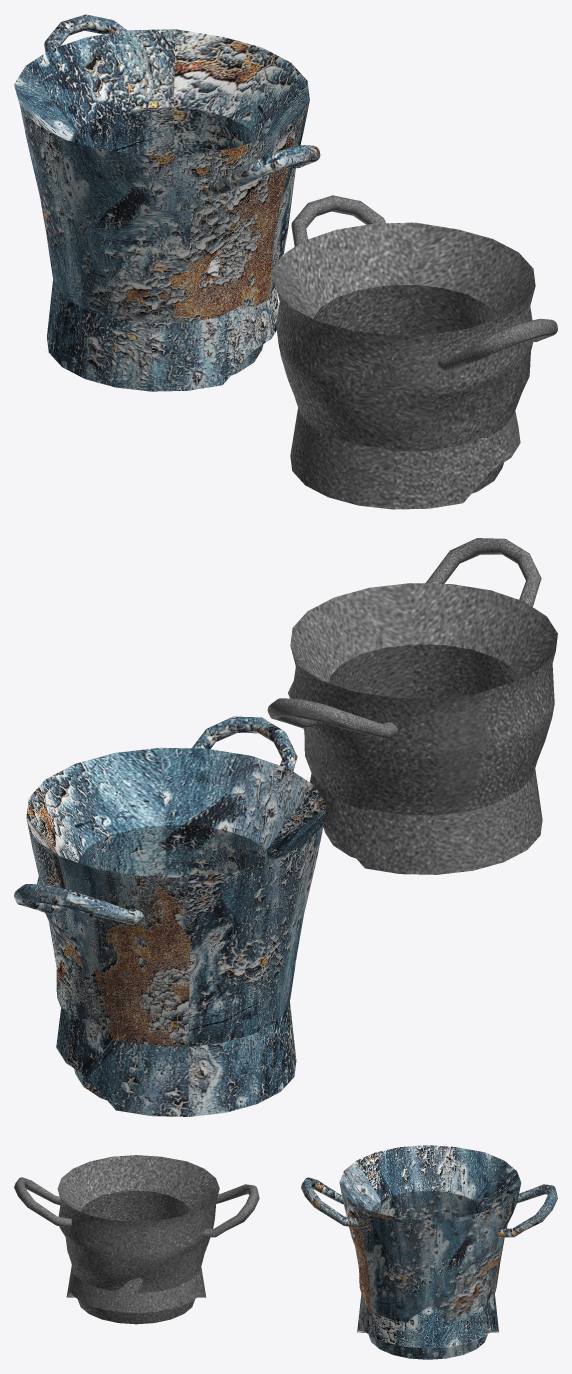
The model's file is cubeta 2.fbx.
The picture shows the model from 3 angles, top to bottom: view 1: azimuth 30°, elevation 25°; view 2: azimuth 150°, elevation 25°; view 3: azimuth 270°, elevation 25°; orthographic projection. The views are drawn at different scales.
Parts seen in each view (by area): view 1: pasted__pasted__pCylinder5, polySurface3; view 2: pasted__pasted__pCylinder5, polySurface3; view 3: pasted__pasted__pCylinder5, polySurface3.
Boxes of the visible parts, x1=… form: pasted__pasted__pCylinder5: x1=14, y1=14, x2=320, y2=391; polySurface3: x1=271, y1=195, x2=557, y2=509; pasted__pasted__pCylinder5: x1=14, y1=716, x2=326, y2=1116; polySurface3: x1=267, y1=538, x2=557, y2=874; pasted__pasted__pCylinder5: x1=301, y1=1145, x2=557, y2=1359; polySurface3: x1=14, y1=1155, x2=259, y2=1324.
Size of the model in its own units: 0.5619 by 0.5573 by 1.72.
Materials: 2 (2 with a texture image).
